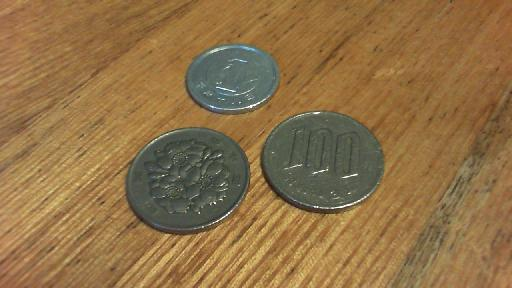100yen: (127, 128, 249, 233), (261, 112, 383, 212)
1yen: (185, 43, 280, 114)
